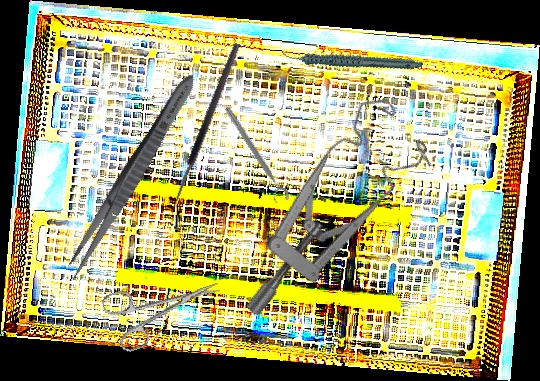Dressing Forceps: (59, 68, 203, 285)
Fixation Ring: (216, 104, 293, 208)
Handpiece: (280, 21, 424, 98)
Hook Surgical: (167, 42, 250, 219)
Iris Scissors: (100, 259, 230, 356)
Speculum: (186, 84, 460, 321)
